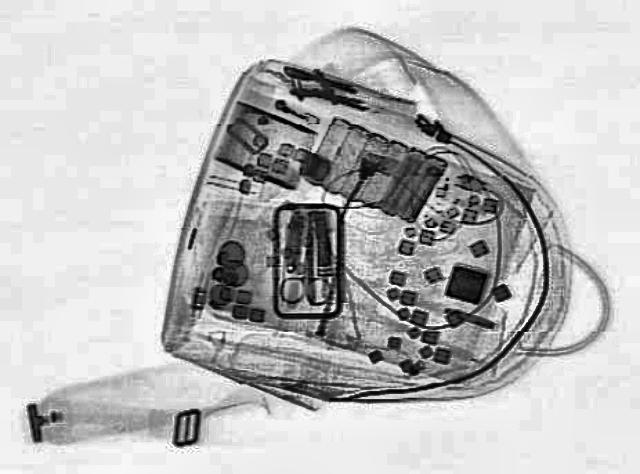Scissors: (276, 217, 336, 303)
